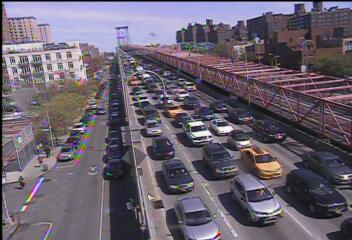neg: (239, 70, 257, 95), (312, 31, 328, 52), (211, 149, 226, 169), (81, 88, 94, 104), (108, 8, 121, 24), (35, 93, 47, 109), (169, 102, 181, 117), (127, 198, 138, 213), (87, 161, 98, 176), (163, 17, 174, 32), (23, 19, 33, 33)
pos: (17, 176, 28, 190), (36, 154, 45, 167), (44, 144, 52, 156)
